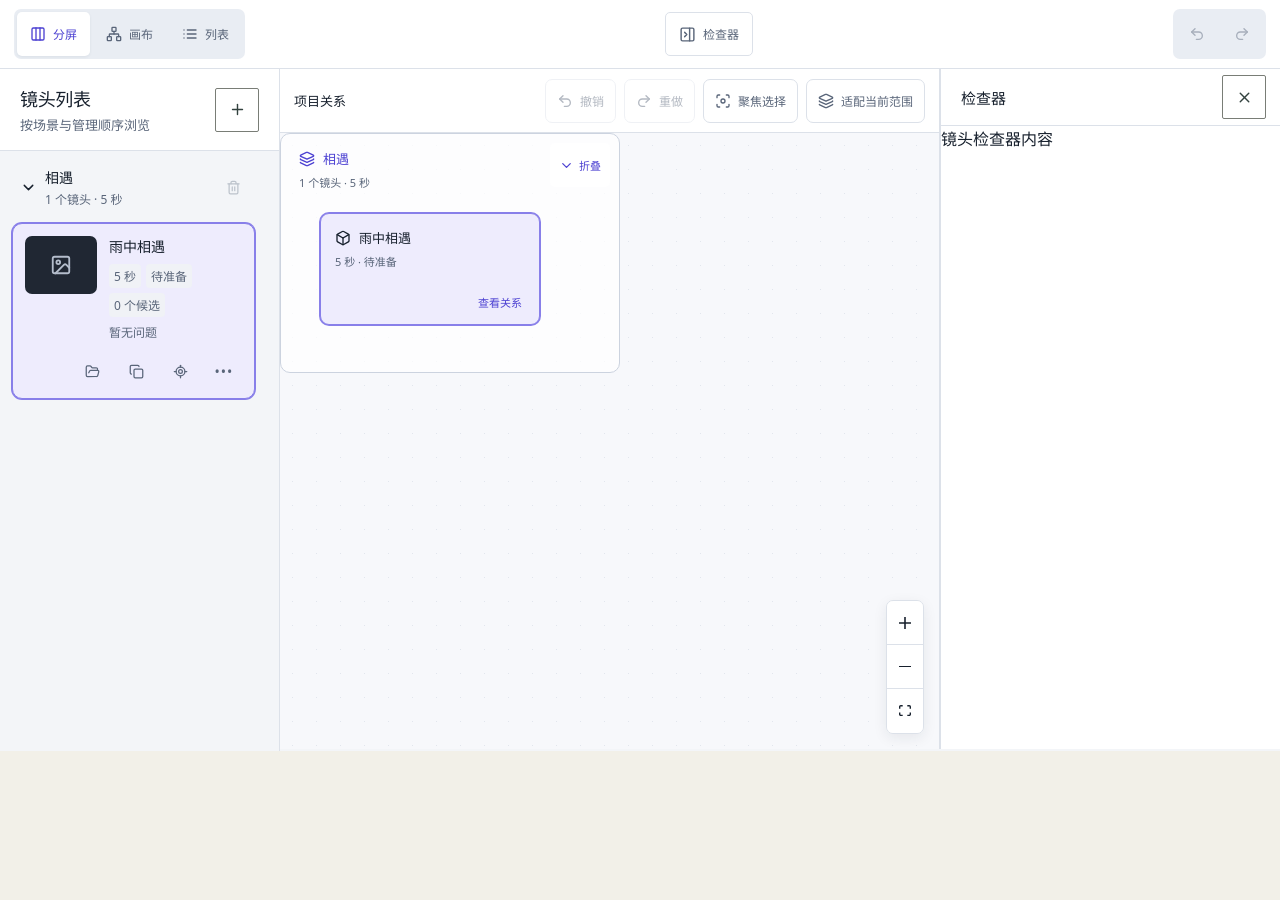
ShotWorkspaceLayout › 桌面默认分屏，并在三种模式间切换时保留选择和未保存草稿
This screenshot has width=1280, height=900.
Expected: the element named "按场景组织的镜头列表" is shown, [0,69,280,751]
Expected: the element named "镜头关系图" is shown, [280,69,940,749]
Click the button with aria-label "画布视图": (130, 34) [93,12,166,56]
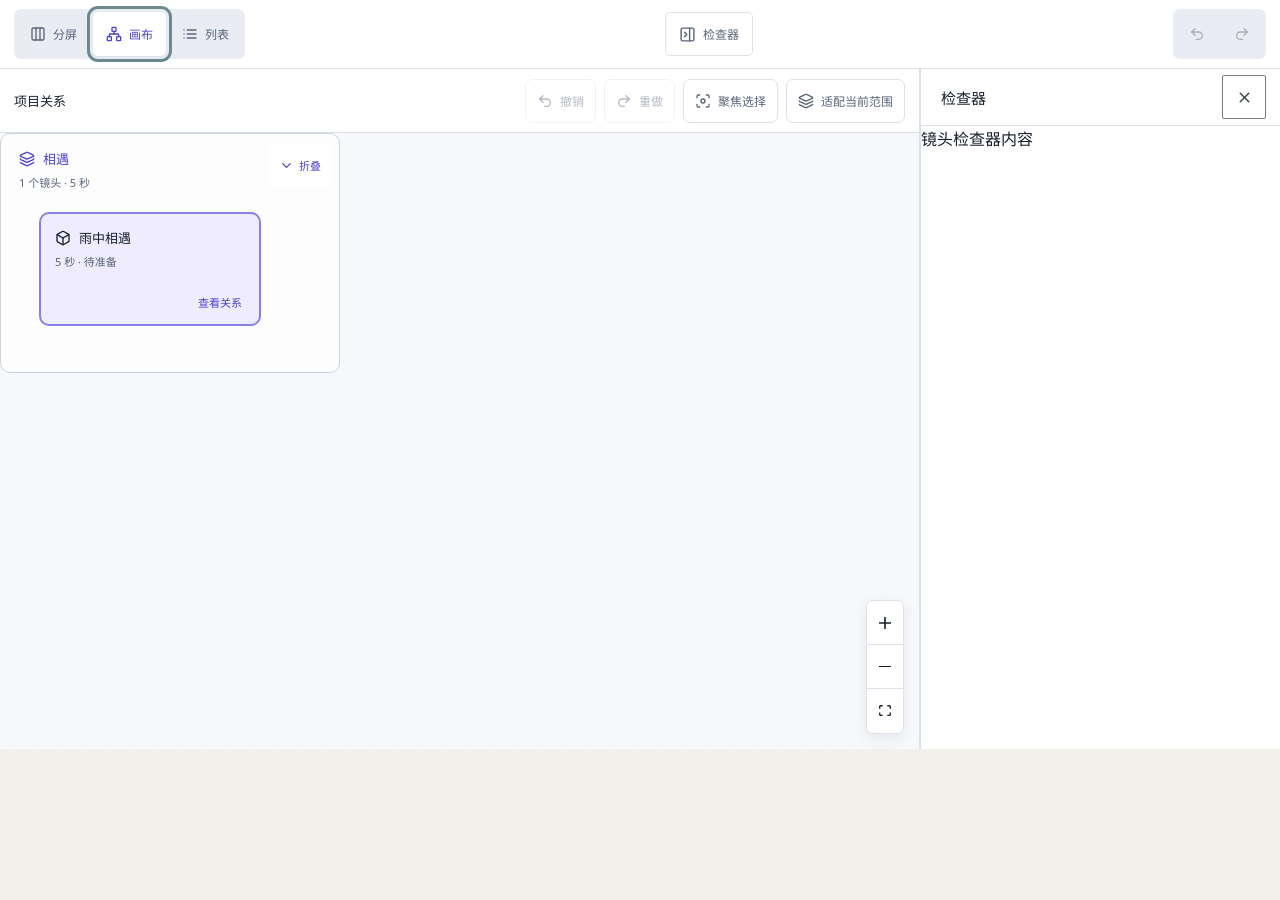
Expected: the element named "镜头关系图" is shown, [0,69,920,749]
Expected: the element "按场景组织的镜头列表" is gone
Click the button with aria-label "列表视图": (206, 34) [169,12,242,56]
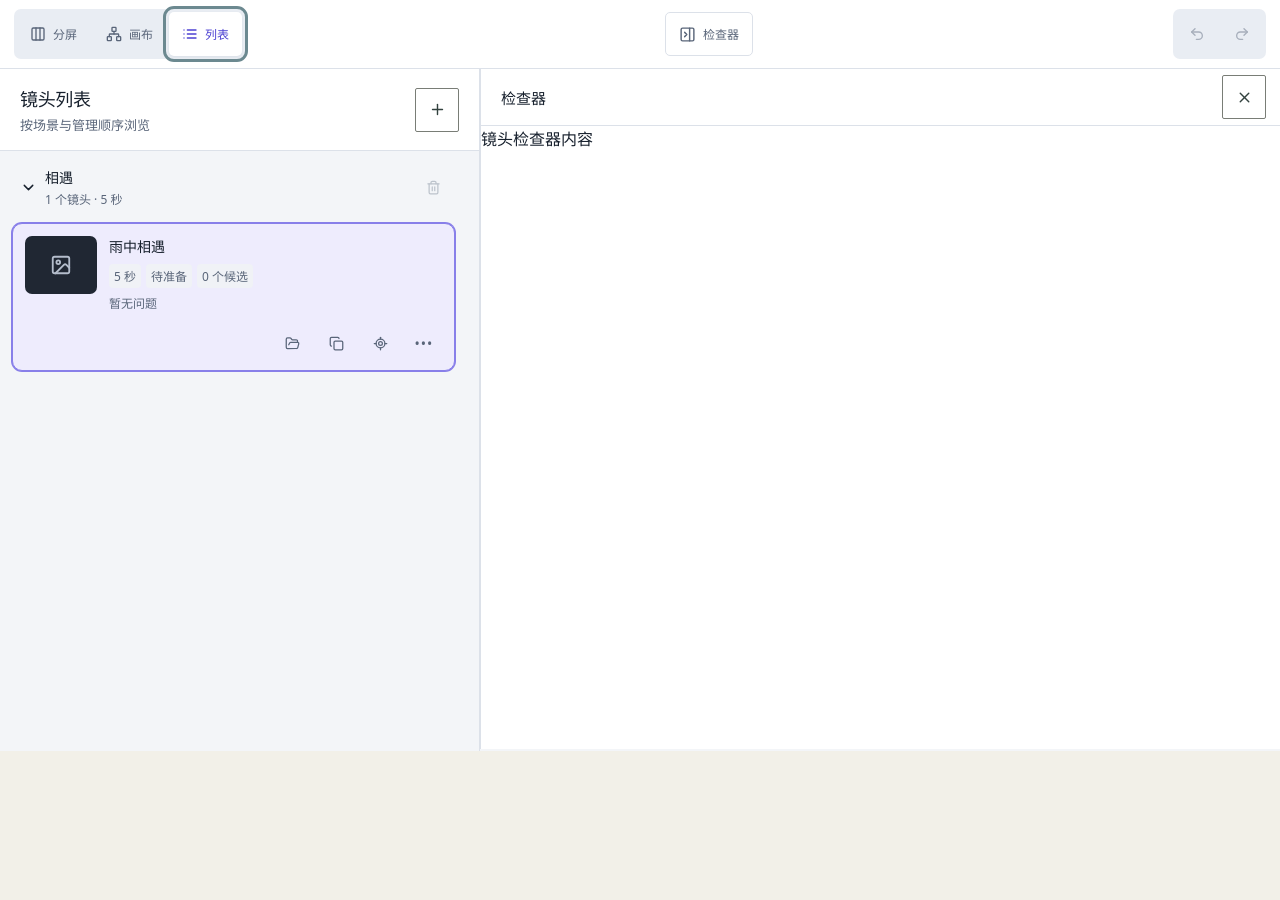
Expected: the element named "按场景组织的镜头列表" is shown, [0,69,480,751]
Expected: the element "镜头关系图" is gone
